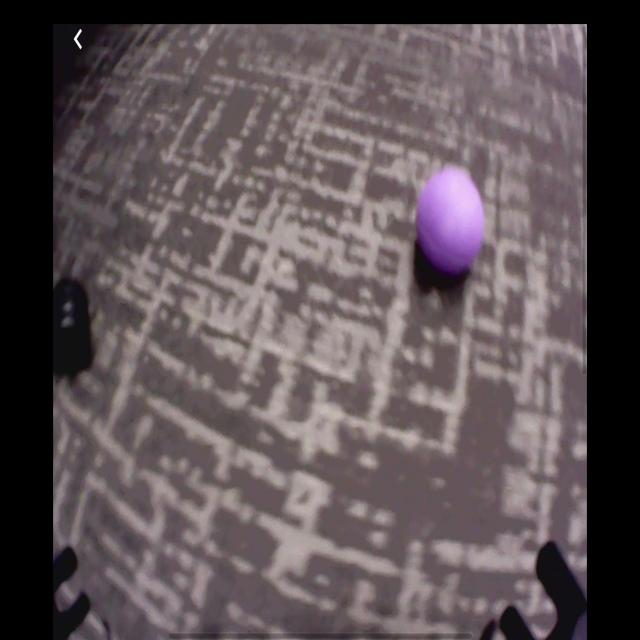ball: (416, 171, 486, 278)
